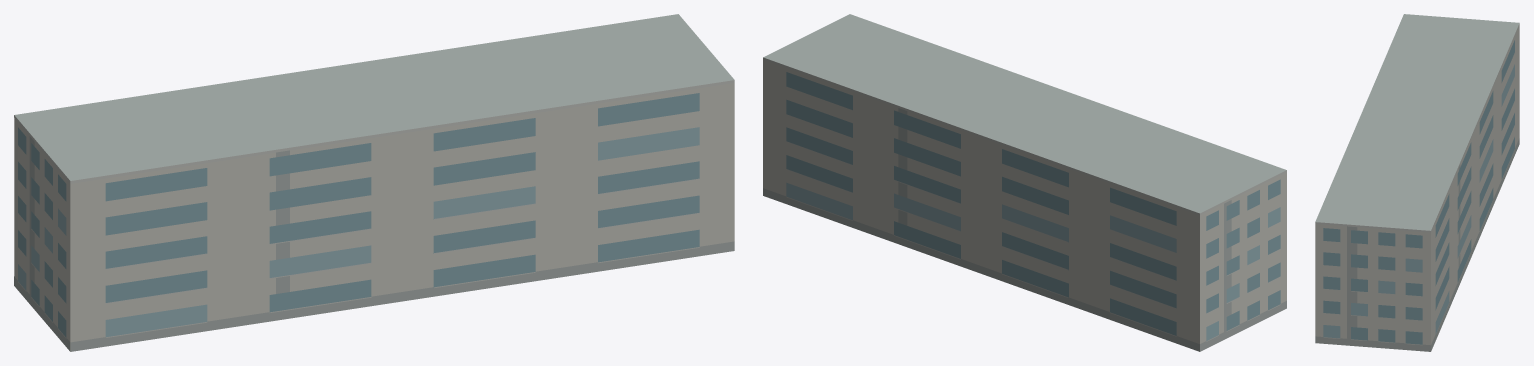
File: residential-711bbdac-af93-4830-95a1-2b333618c213.glb
3 views of the same model, side by side, from view 1: azimuth 30°, elevation 25°; view 2: azimuth 150°, elevation 25°; view 3: azimuth 270°, elevation 25° (orthographic). The views are drawn at different scales.
Visible parts, largest first — view 1: residential-711bbdac-af93-4830-95a1-2b333618c213.tmp; view 2: residential-711bbdac-af93-4830-95a1-2b333618c213.tmp; view 3: residential-711bbdac-af93-4830-95a1-2b333618c213.tmp.
Part boxes in pixels (x1=…): residential-711bbdac-af93-4830-95a1-2b333618c213.tmp: x1=14, y1=14, x2=734, y2=351; residential-711bbdac-af93-4830-95a1-2b333618c213.tmp: x1=763, y1=14, x2=1286, y2=351; residential-711bbdac-af93-4830-95a1-2b333618c213.tmp: x1=1315, y1=14, x2=1519, y2=351.
Size of the model in its own units: 58.59 by 15.25 by 23.36.
